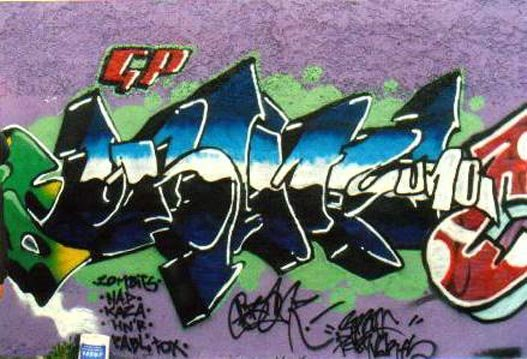graffity: (1, 54, 527, 327), (226, 275, 346, 357), (89, 270, 193, 359), (333, 305, 441, 359), (94, 42, 195, 95)
